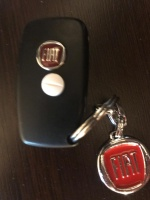Arveles: (40, 72, 65, 98)
